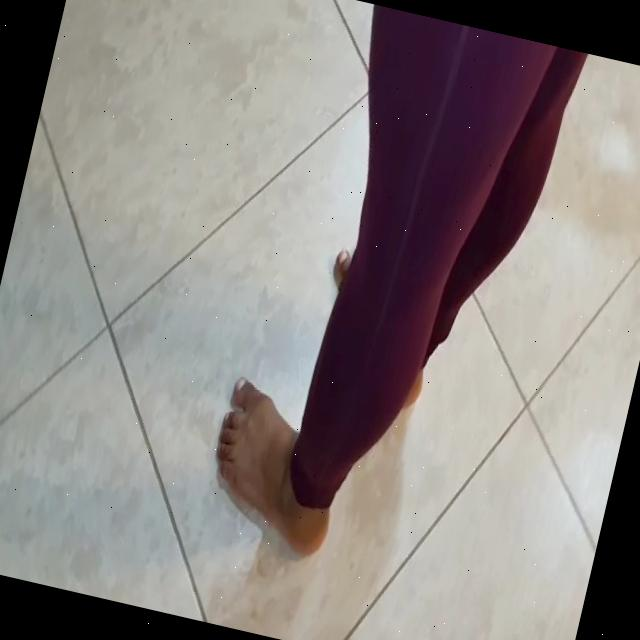no-boots: (192, 363, 364, 568)
